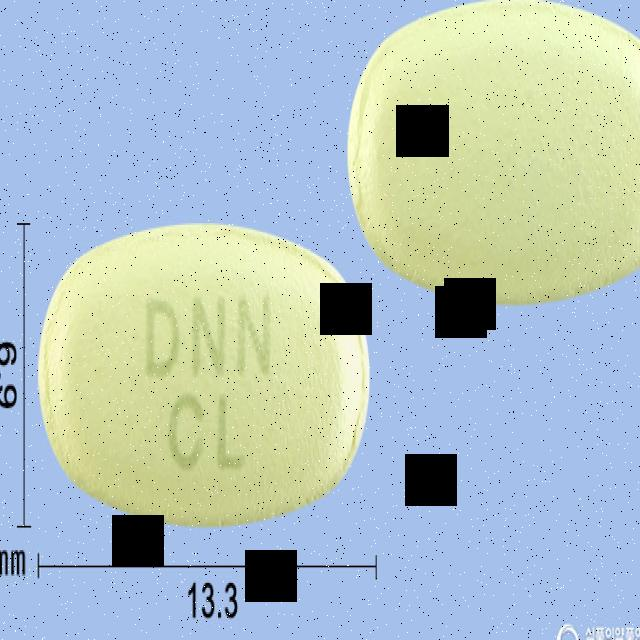Clcid: (35, 216, 373, 532)
